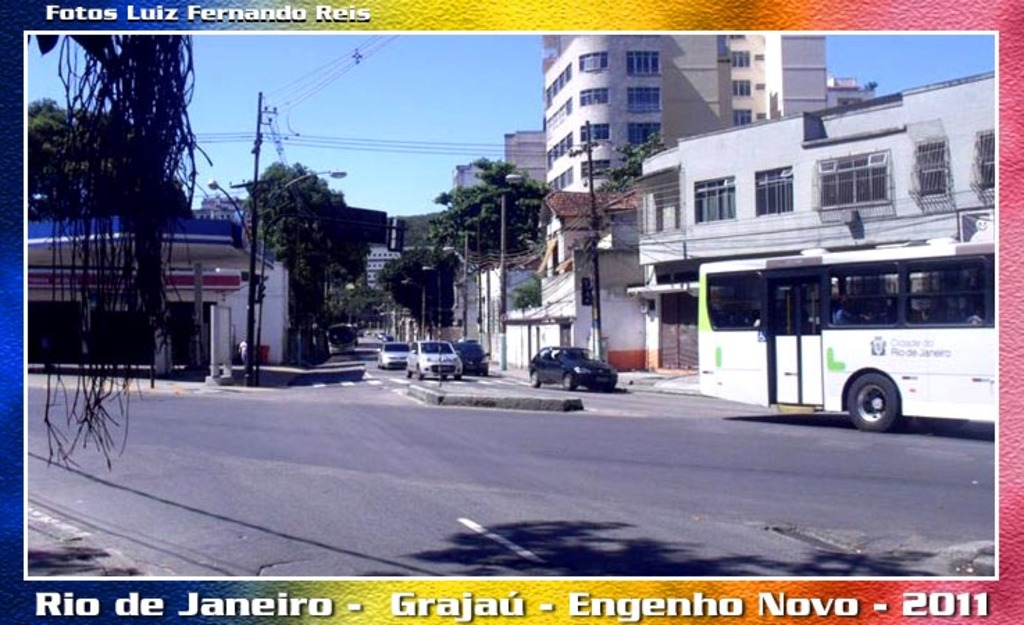Bus: (697, 240, 996, 430)
